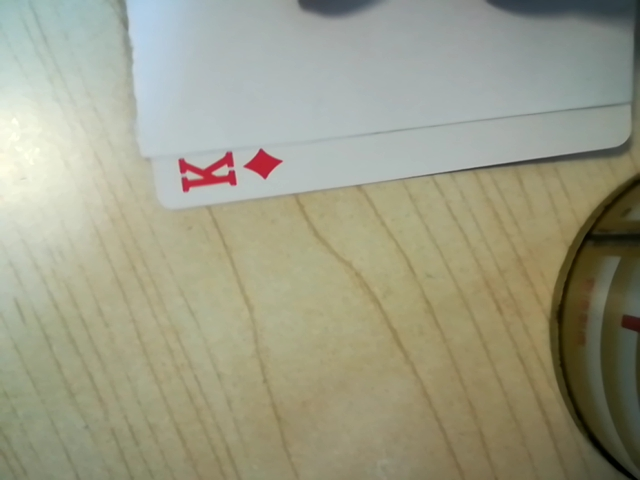fk k: (165, 145, 288, 200)
